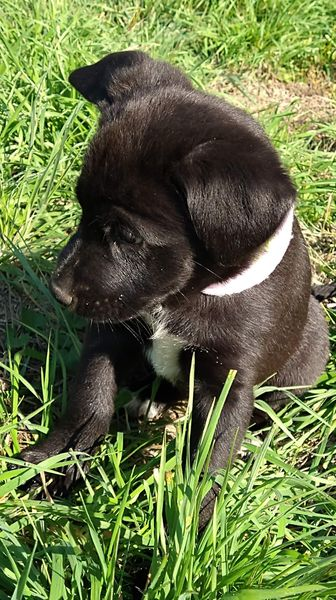dog: (33, 36, 330, 539)
